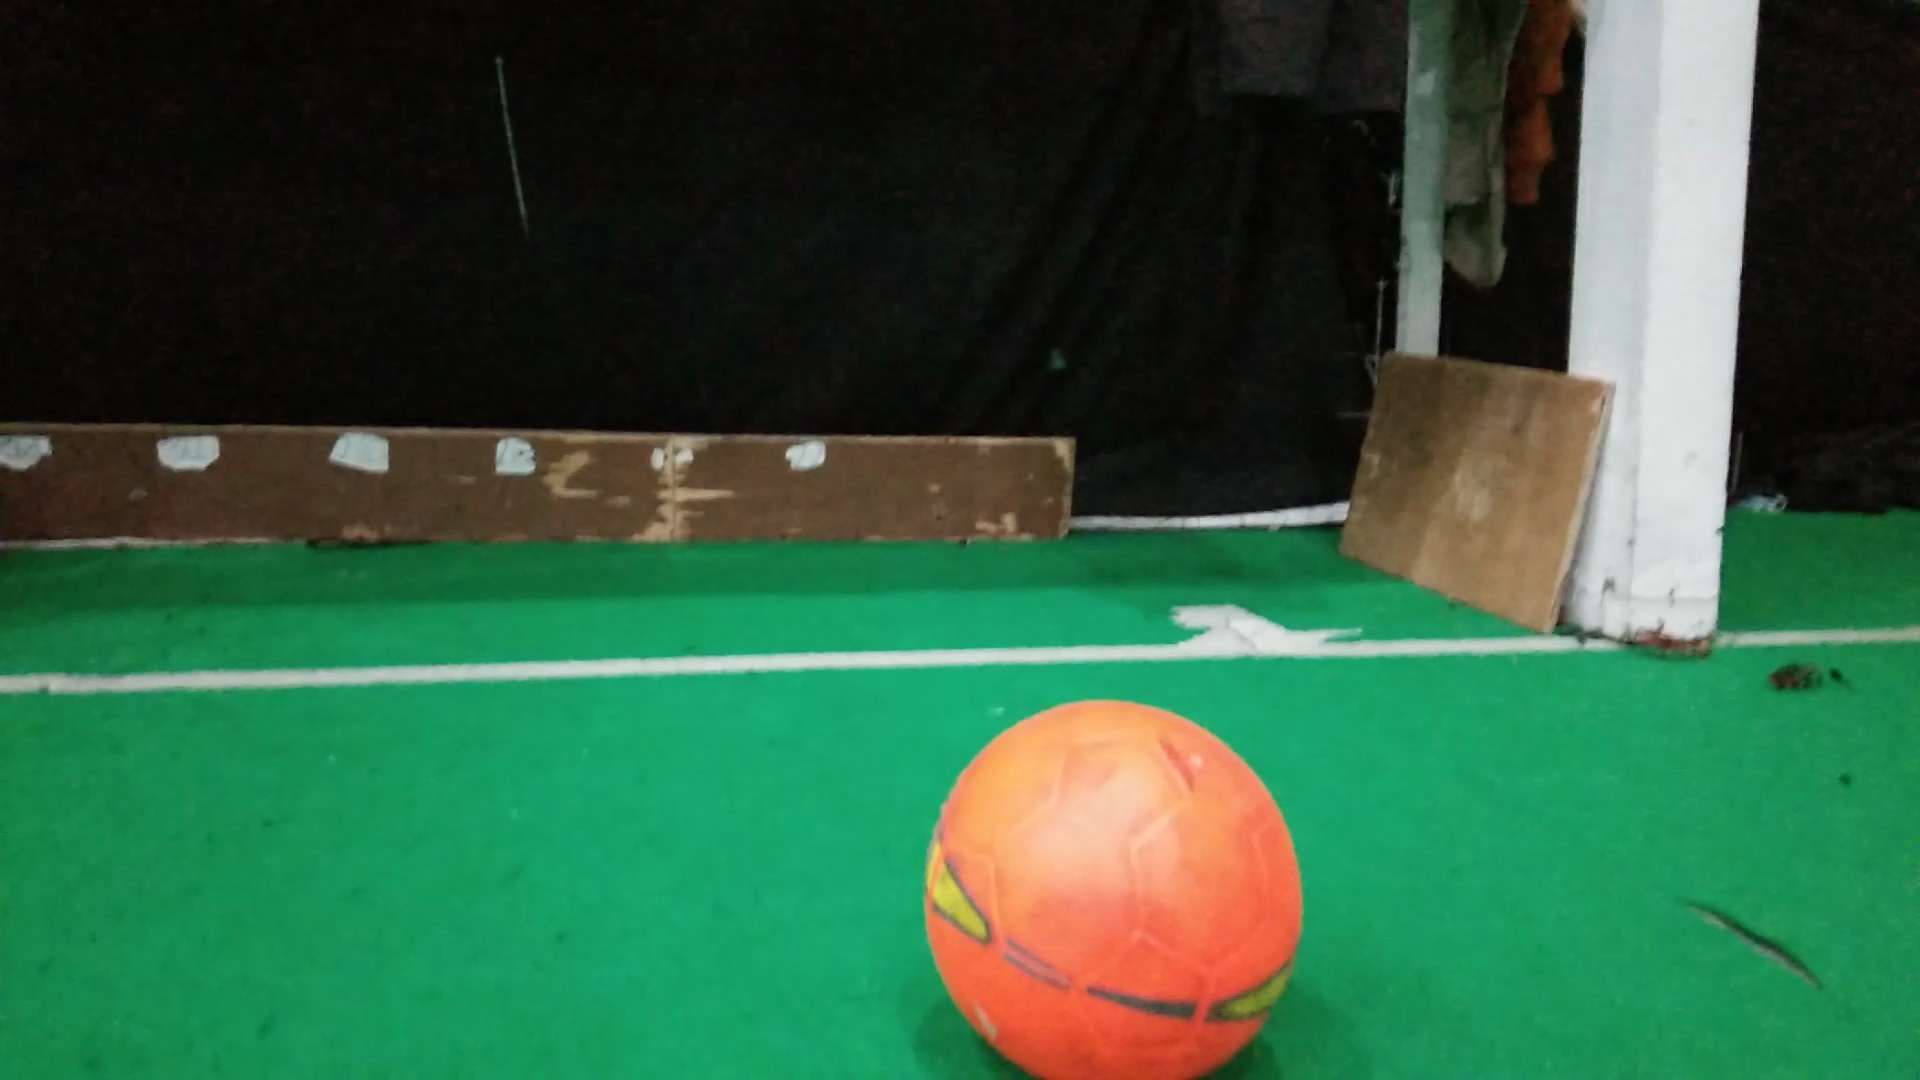bola: (906, 688, 1311, 1080)
